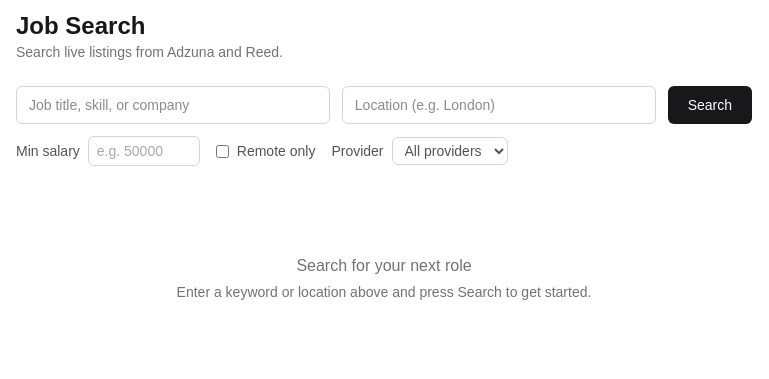
it: JobSearchScreen › shows a degraded-provider notice naming the failed provider when one provider errors but results still come back
Click the button "Search" at [710, 105], box [668,86,752,124]
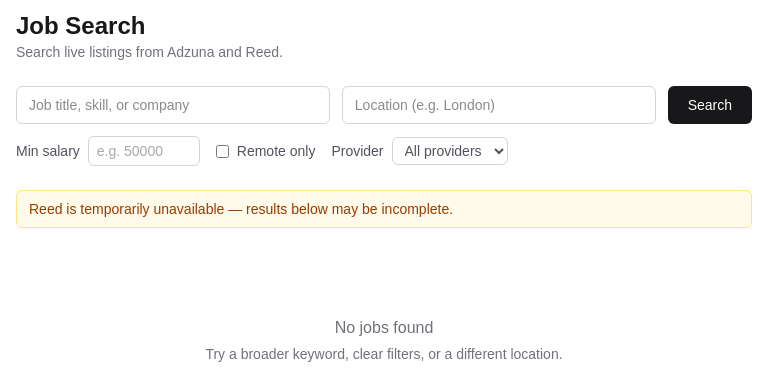
Check: the text "Reed is temporarily unavailable — results below may be incomplete." is shown, box [16,190,752,228]
